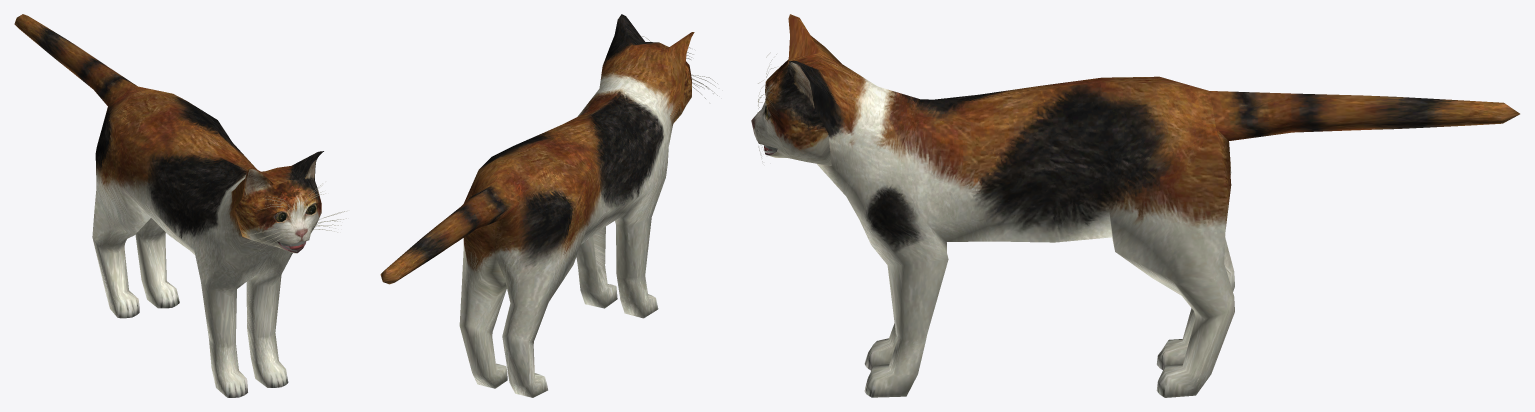
3 renders of one model, left to right at view 1: azimuth 30°, elevation 25°; view 2: azimuth 150°, elevation 25°; view 3: azimuth 270°, elevation 25°, orthographic. The views are drawn at different scales.
Visible parts, largest first — view 1: Model001_7_Nonecat01body.tga, Model001_7_Nonecat01head.tga; view 2: Model001_7_Nonecat01body.tga, Model001_7_Nonecat01head.tga; view 3: Model001_7_Nonecat01body.tga, Model001_7_Nonecat01head.tga.
Part boxes in pixels (bbox=[...]): Model001_7_Nonecat01body.tga: bbox=[14, 14, 323, 397]; Model001_7_Nonecat01head.tga: bbox=[234, 158, 346, 253]; Model001_7_Nonecat01body.tga: bbox=[380, 14, 694, 397]; Model001_7_Nonecat01head.tga: bbox=[642, 36, 717, 123]; Model001_7_Nonecat01body.tga: bbox=[787, 14, 1519, 397]; Model001_7_Nonecat01head.tga: bbox=[751, 52, 831, 165].
Bounding box in the file's own units: 0.2112 × 0.4541 × 0.9315.
